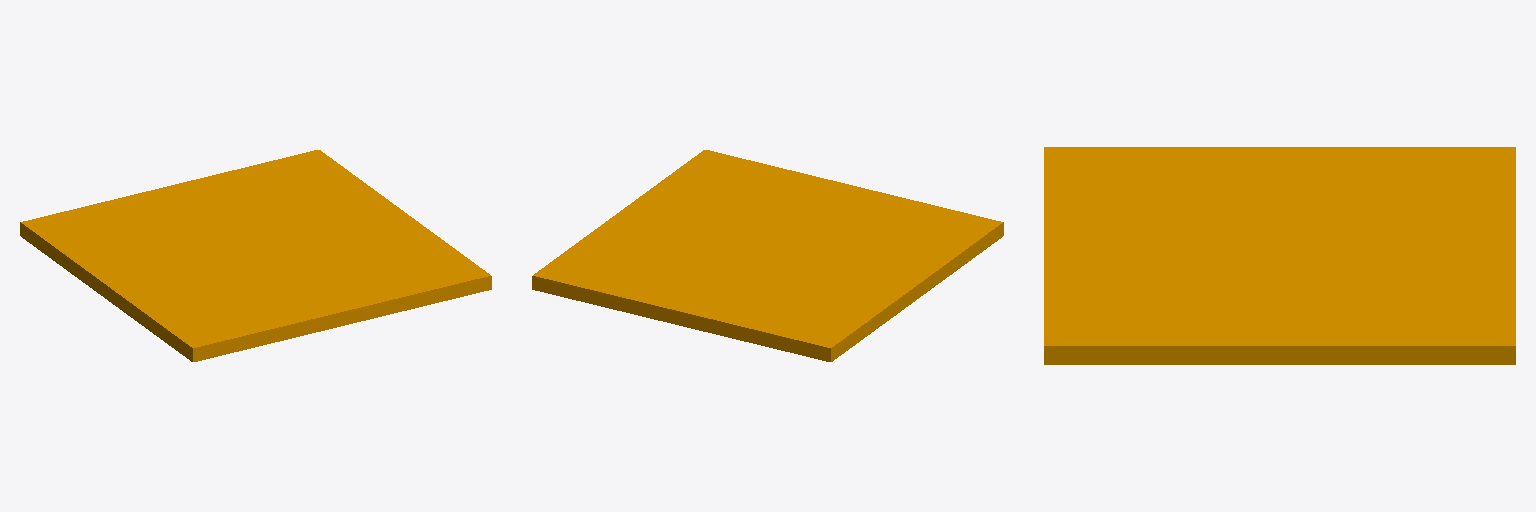
robot.urdf — table:
<robot name="table">
  <link name="table">

    <!-- rosrun gazebo_ros spawn_model -file $(rospack find ur5_single_arm_tufts)/urdf/objects/table.urdf -urdf -x 0.5 -y -0 -z 0.75 -model table -->
    
    <inertial>
      <origin xyz="0.23 0 0.755" rpy="0 0 0" />
      <mass value="1"/>
      <inertia
        ixx="0.07" ixy="0.0" ixz="0.0"
        iyy="0.40" iyz="0.0"
        izz="0.33"/>
    </inertial>

    <visual>
      <geometry>
        <box size="1.1 1.1 0.05"/>
      </geometry>
    </visual>

    <collision>
      <geometry>
        <box size="1.1 1.1 0.05"/>
      </geometry>
    </collision>

  </link>

  <gazebo reference="table">
    <material>Gazebo/White</material>
  </gazebo> 

  <gazebo>
    <static>true</static>
  </gazebo>

</robot>

--- Render facts (derived) ---
Views: 3 orthographic renders of the robot side by side, from view 1: azimuth 30°, elevation 25°; view 2: azimuth 150°, elevation 25°; view 3: azimuth 270°, elevation 25°.
Robot: table — 1 links, 0 joints (none); root link table; default pose: every joint at zero.
Links seen in each view (by area): view 1: table; view 2: table; view 3: table.
Boxes of the visible links, box(x1,y1,x2,y2) form: table: box(20, 150, 491, 361); table: box(532, 150, 1003, 361); table: box(1044, 147, 1515, 364).
Bounding box of the posed robot: 1.1 × 1.1 × 0.05 m (x, y, z).
Geometry: primitives only (box / cylinder / sphere), no mesh files.
